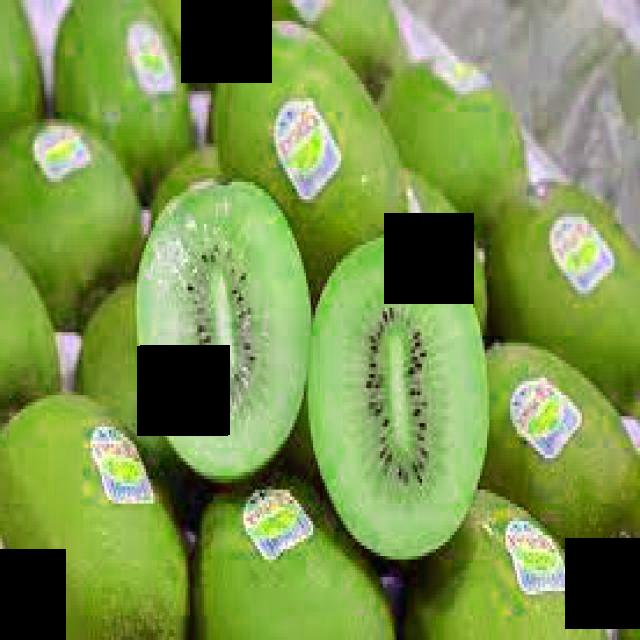kiwi: (217, 15, 414, 271), (4, 389, 194, 638), (481, 337, 640, 610), (488, 176, 640, 411), (198, 473, 398, 638), (407, 484, 616, 638), (3, 113, 145, 327), (54, 1, 205, 201), (377, 50, 533, 225)
